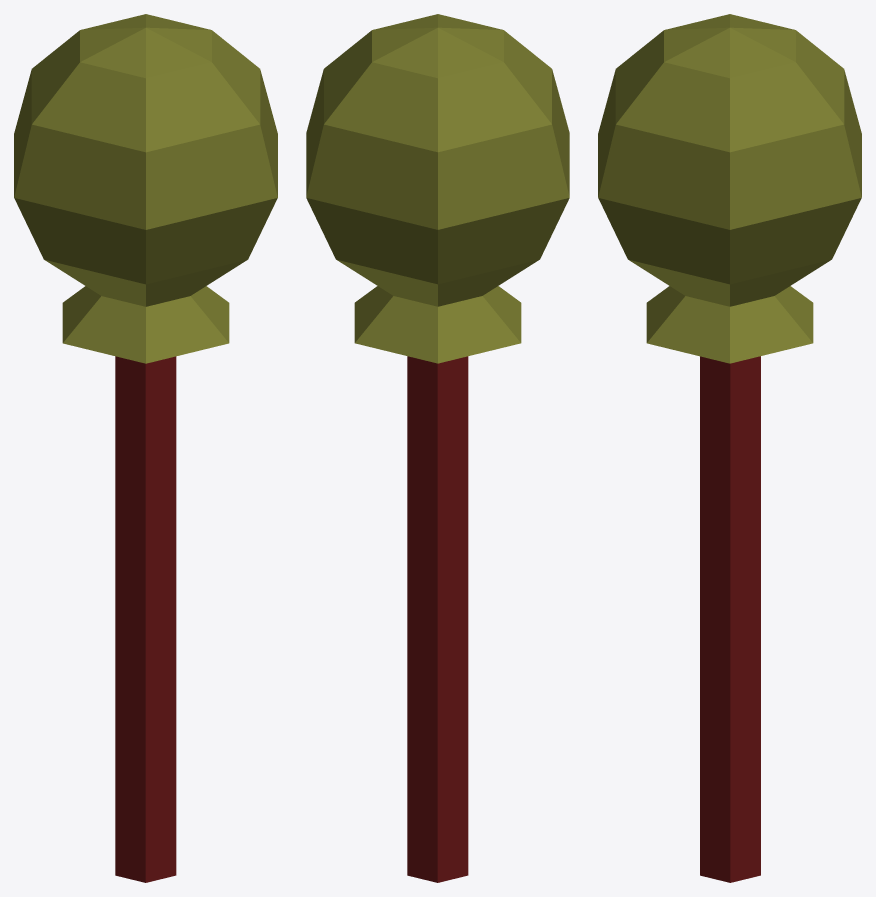
Rendered from stick.obj.
The picture shows the model from 3 angles, left to right: view 1: azimuth 30°, elevation 25°; view 2: azimuth 150°, elevation 25°; view 3: azimuth 270°, elevation 25°; orthographic projection.
Parts seen in each view (by area): view 1: pSphere2 group3, group3 pCylinder2; view 2: pSphere2 group3, group3 pCylinder2; view 3: pSphere2 group3, group3 pCylinder2.
Part boxes in pixels (x1=…): pSphere2 group3: x1=14, y1=14, x2=277, y2=363; group3 pCylinder2: x1=115, y1=356, x2=176, y2=882; pSphere2 group3: x1=306, y1=14, x2=569, y2=363; group3 pCylinder2: x1=407, y1=356, x2=468, y2=882; pSphere2 group3: x1=598, y1=14, x2=861, y2=363; group3 pCylinder2: x1=700, y1=356, x2=760, y2=882.
Size of the model in its own units: 0.3636 by 1.11 by 0.3149.
